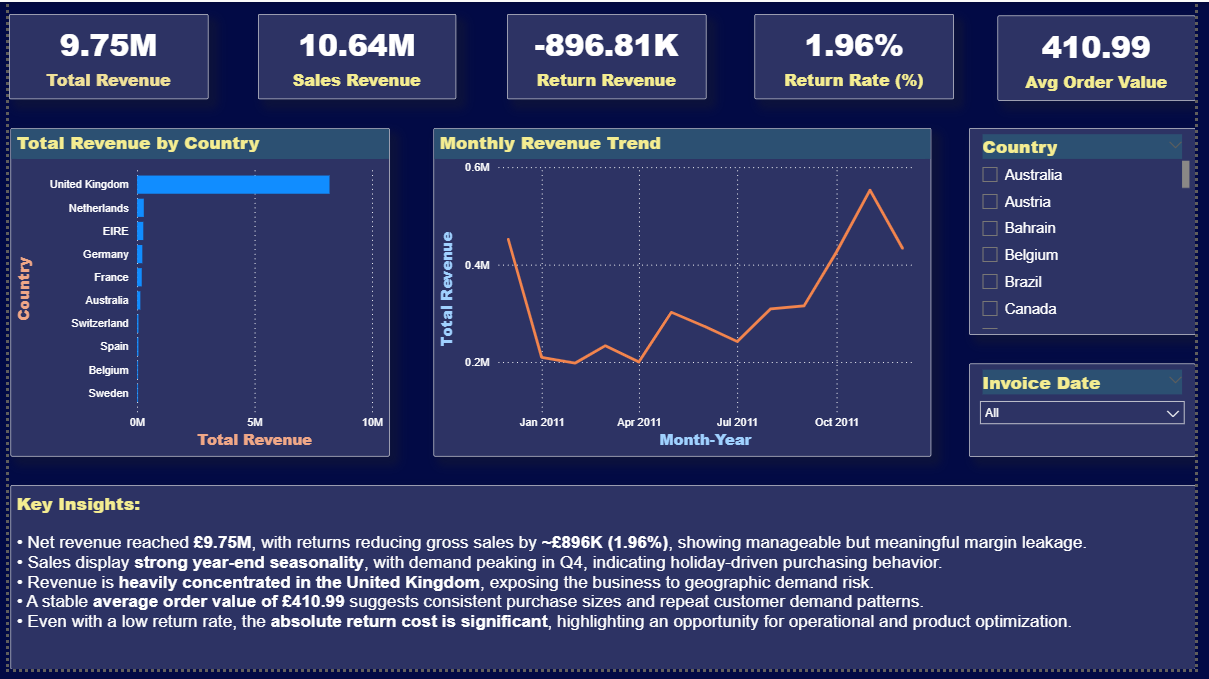

The dashboard page shown, as its layout file describes it:
{"tool":"powerbi","page":{"name":"Executive summary","canvas":[1280,720],"ordinal":0},"visuals":[{"type":"card","fields":{"Values":["uk_ecommerce_bi_ready.Total Revenue"]},"box":[0,13,215.4,92.3],"z":0},{"type":"card","fields":{"Values":["uk_ecommerce_bi_ready.Sales Revenue"]},"box":[268.8,13,213.7,92.3],"z":1000},{"type":"card","fields":{"Values":["uk_ecommerce_bi_ready.Return Revenue"]},"box":[537.6,13,215.4,92.3],"z":2000},{"type":"card","fields":{"Values":["uk_ecommerce_bi_ready.Return Rate (%)"]},"box":[804.8,13,215.4,92.3],"z":3000},{"type":"card","fields":{"Values":["uk_ecommerce_bi_ready.Average Order Value"]},"box":[1067.1,14.6,213.7,92.3],"z":4000},{"type":"lineChart","title":"Monthly Revenue Trend","fields":{"Y":["uk_ecommerce_bi_ready.Total Revenue"],"Category":["uk_ecommerce_bi_ready.InvoiceDate.Variation.Date Hierarchy.Year","uk_ecommerce_bi_ready.InvoiceDate.Variation.Date Hierarchy.Month"]},"box":[458.2,136,537.6,354.6],"z":5000},{"type":"clusteredBarChart","fields":{"Category":["uk_ecommerce_bi_ready.Country"],"Y":["uk_ecommerce_bi_ready.Total Revenue"]},"box":[1.6,136,409.7,354.6],"z":6000},{"type":"slicer","fields":{"Values":["uk_ecommerce_bi_ready.Country"]},"box":[1036.3,136,244.5,223.5],"z":7000},{"type":"slicer","fields":{"Values":["uk_ecommerce_bi_ready.InvoiceDate"]},"box":[1036.3,390.2,244.5,100.4],"z":8000},{"type":"textbox","box":[1.6,521.4,1279.2,199.2],"z":9000}]}

Visuals, with their boxes in screenshot pixels (x1, y1, x2, y2), scaled from the page's 1280x720 canvas onto the 1209x679 screenshot:
card - uk_ecommerce_bi_ready.Total Revenue: 0, 12, 203, 99
card - uk_ecommerce_bi_ready.Sales Revenue: 254, 12, 456, 99
card - uk_ecommerce_bi_ready.Return Revenue: 508, 12, 711, 99
card - uk_ecommerce_bi_ready.Return Rate (%): 760, 12, 964, 99
card - uk_ecommerce_bi_ready.Average Order Value: 1008, 14, 1208, 101
"Monthly Revenue Trend" lineChart: 433, 128, 941, 463
clusteredBarChart - uk_ecommerce_bi_ready.Country x uk_ecommerce_bi_ready.Total Revenue: 2, 128, 388, 463
slicer - uk_ecommerce_bi_ready.Country: 979, 128, 1208, 339
slicer - uk_ecommerce_bi_ready.InvoiceDate: 979, 368, 1208, 463
textbox: 2, 492, 1208, 678
